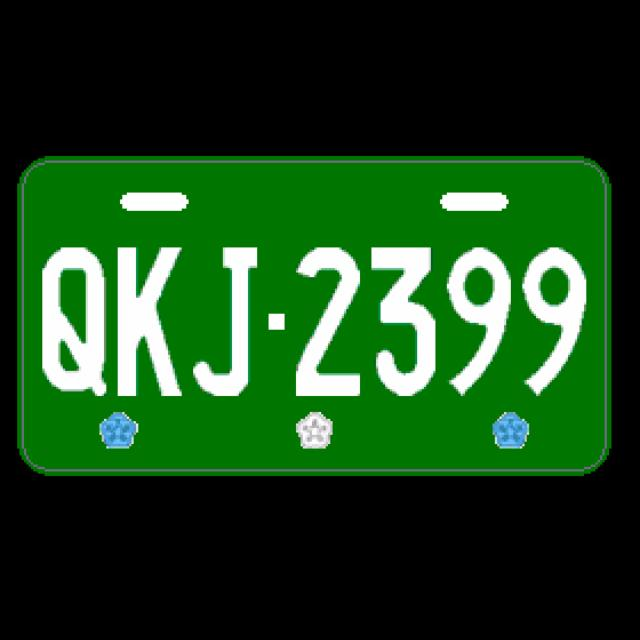plate: (15, 152, 615, 480)
